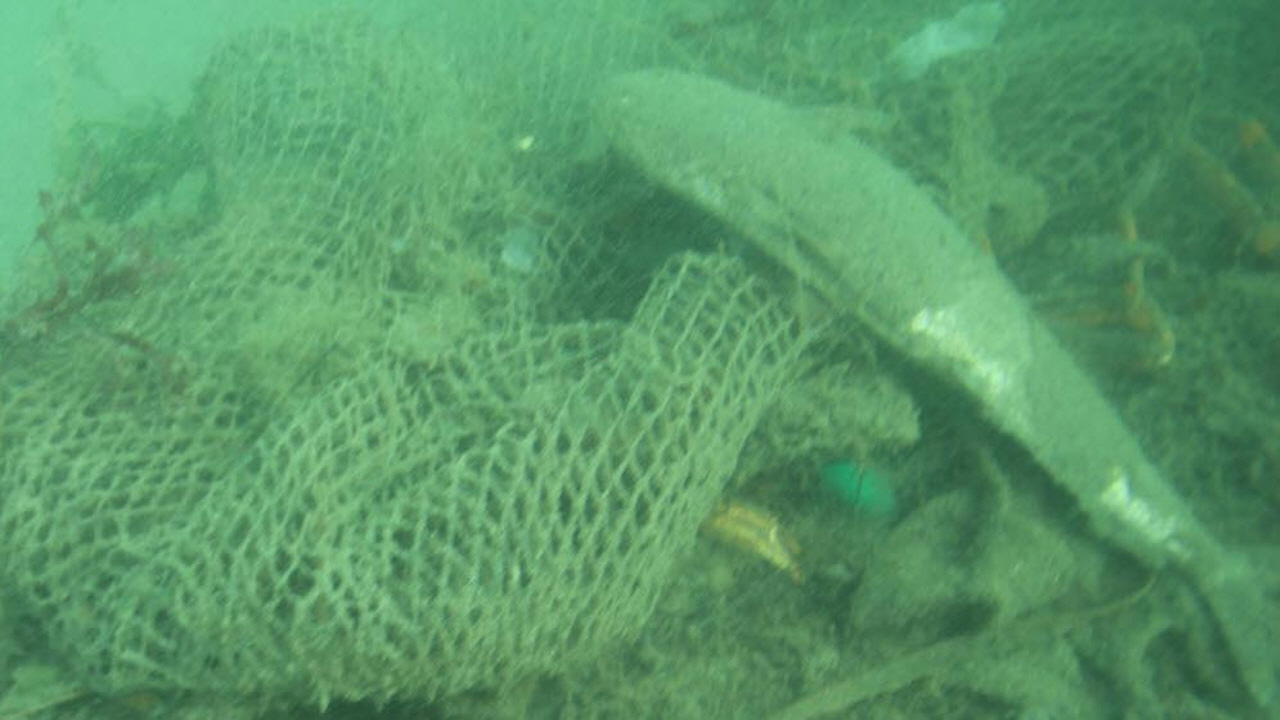fish net: (0, 0, 1207, 701)
